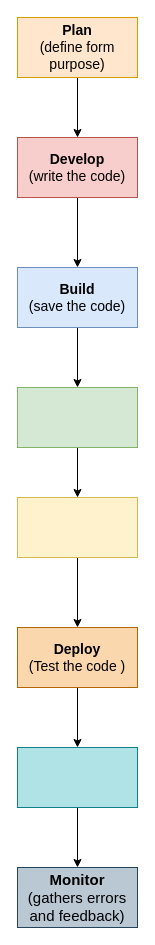
Image size: 155x945. Some labels were removed from this diagram. The centre of each missing label's shape, as x and y in pixels:
"Operate (Monitor up to time)" goes at (x=77, y=777).
"Release (upload in github)" goes at (x=77, y=527).
"Test (check the form is working )" goes at (x=77, y=417).
